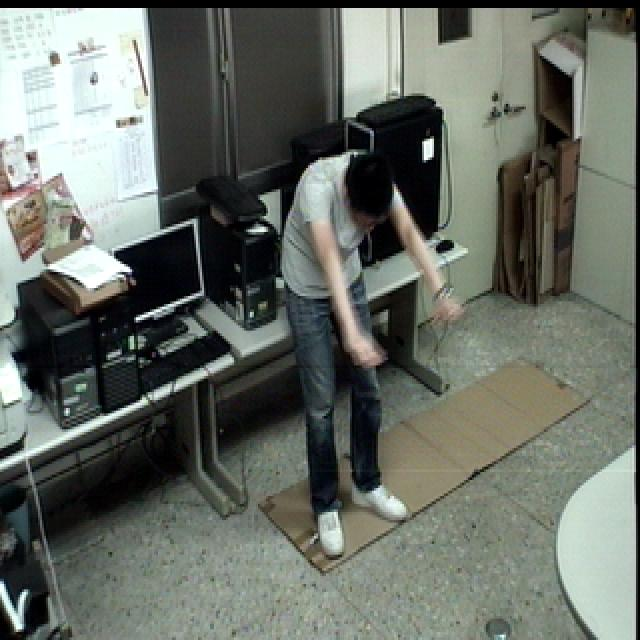bend: (269, 145, 460, 570)
